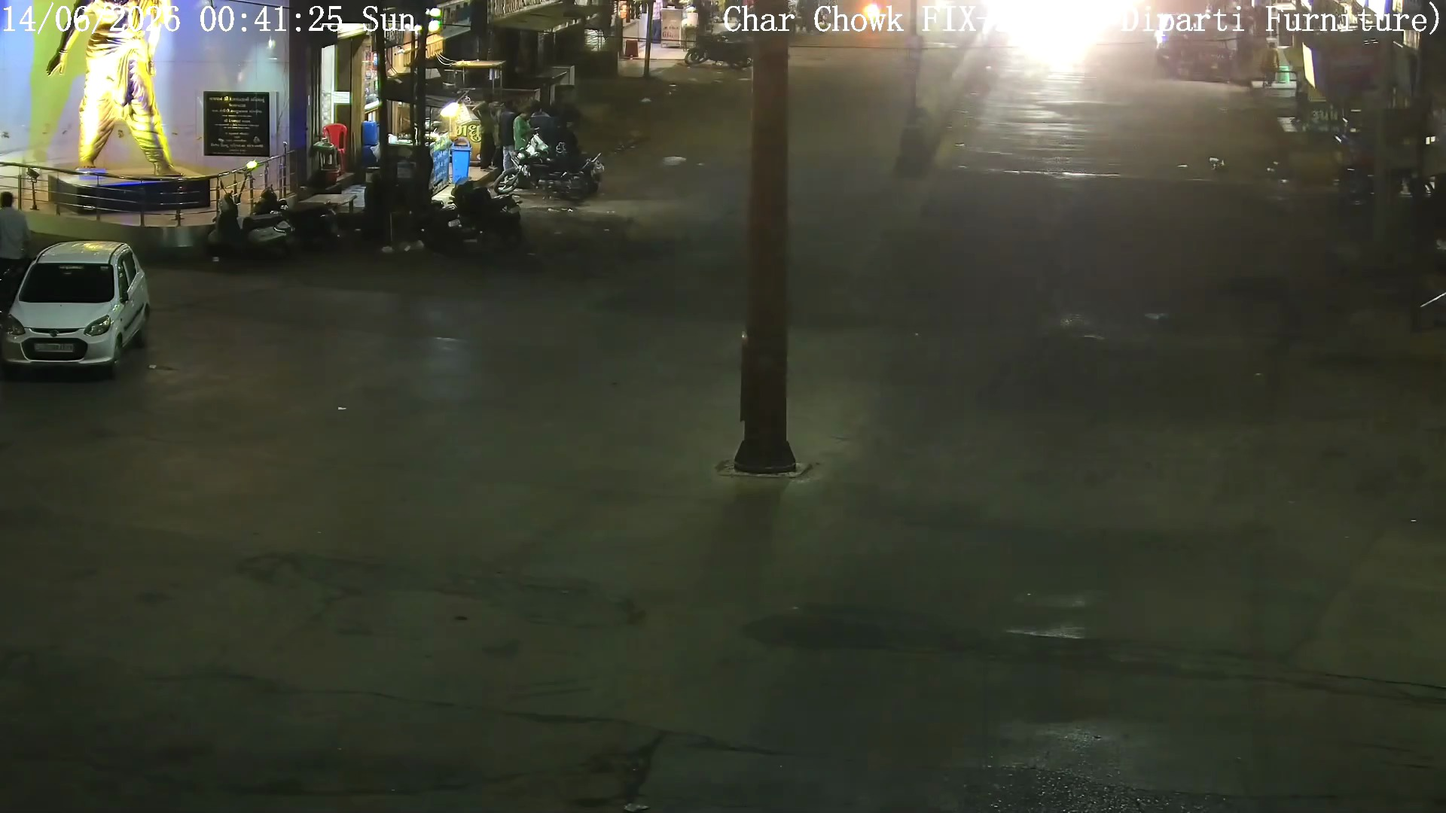car: (0, 235, 158, 372)
